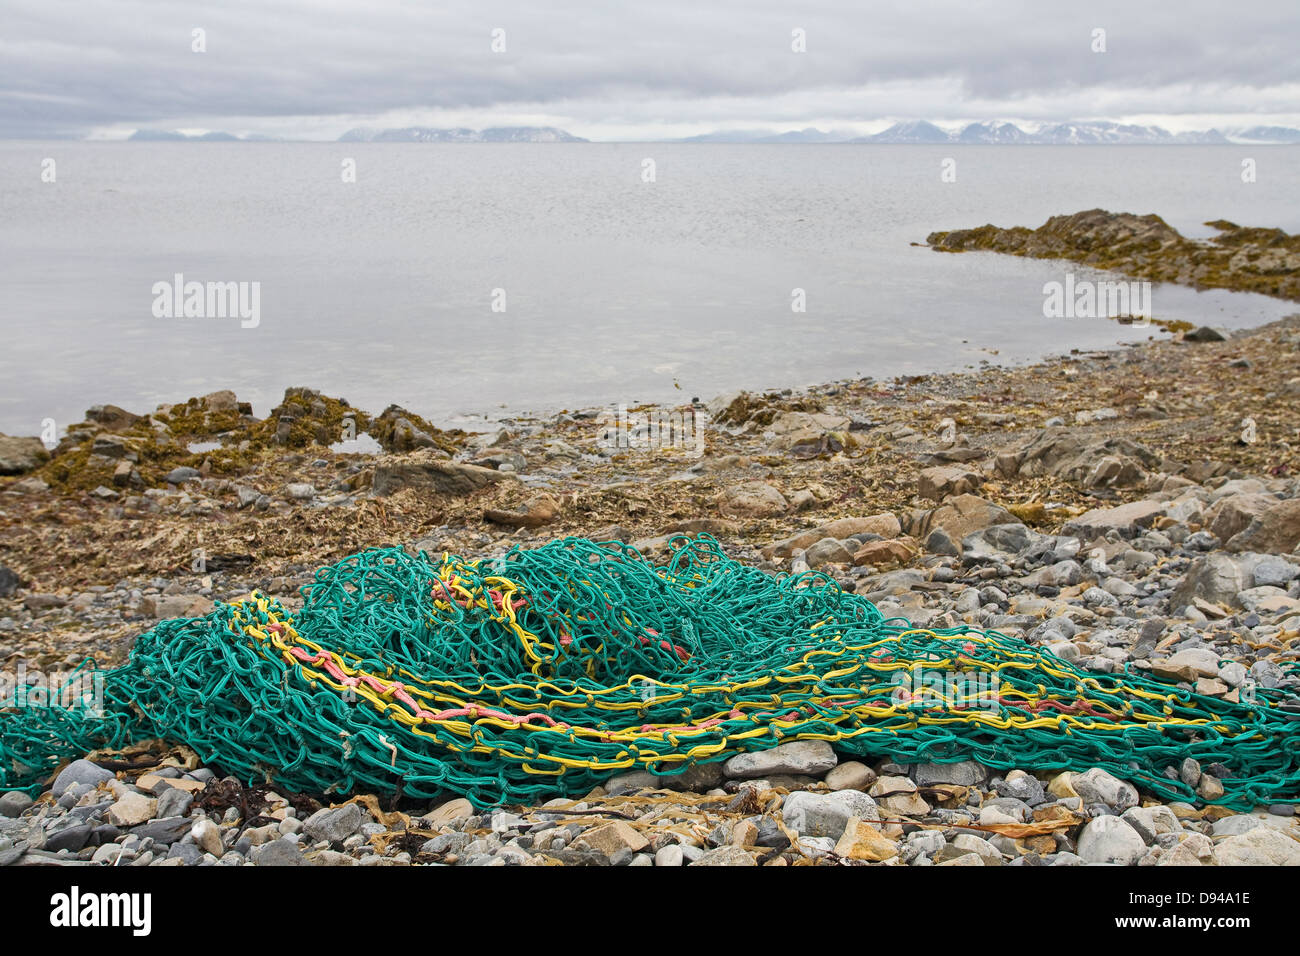fishingnet: (0, 536, 1299, 821)
